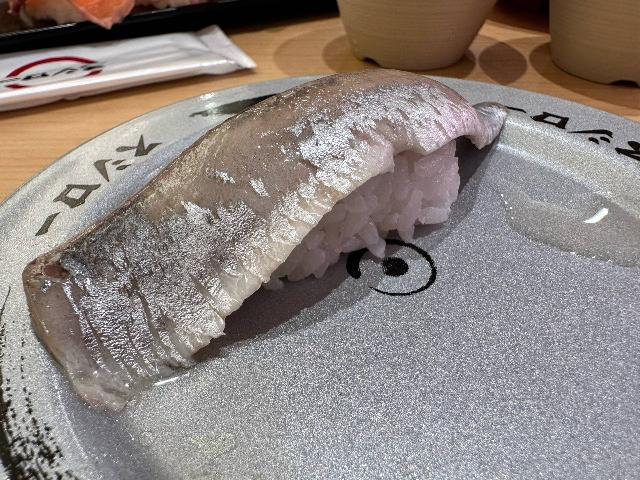janwhite: (0, 346, 491, 480), (507, 84, 640, 480), (0, 118, 190, 261), (314, 258, 507, 351)
